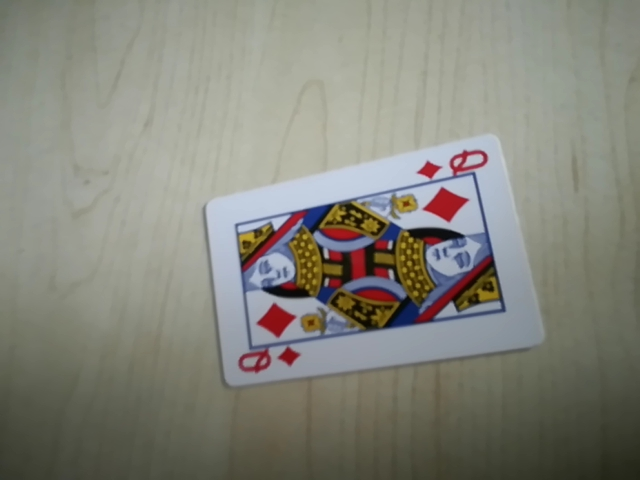fk q: (415, 144, 495, 185), (234, 343, 303, 384)
